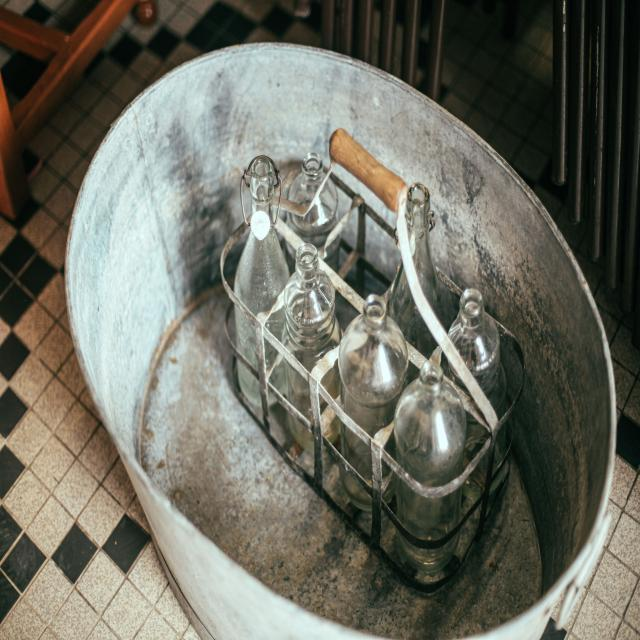Bottle: (339, 295, 408, 436), (394, 361, 466, 487), (234, 156, 289, 315), (449, 289, 506, 418), (284, 244, 340, 372), (406, 183, 442, 318), (288, 181, 338, 258)
